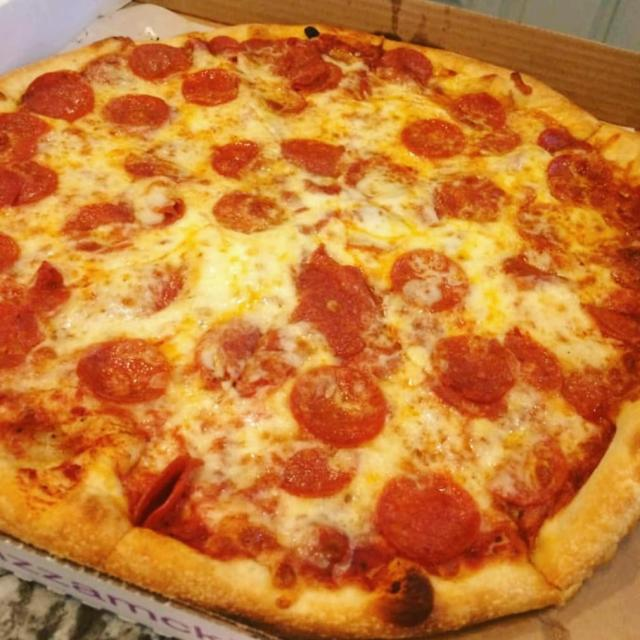pepperoni: (374, 470, 481, 566), (289, 364, 388, 448), (193, 318, 286, 394), (488, 428, 573, 509), (73, 336, 171, 404), (290, 282, 373, 359), (431, 335, 515, 403), (129, 455, 202, 530), (387, 248, 471, 311), (278, 442, 358, 498), (15, 68, 96, 123), (426, 374, 510, 422), (57, 203, 139, 250), (546, 154, 614, 208), (433, 173, 507, 220), (99, 91, 171, 138), (579, 299, 640, 353), (212, 194, 286, 234), (0, 298, 40, 371), (126, 40, 190, 84), (278, 136, 345, 178), (400, 118, 466, 160), (0, 157, 60, 203), (179, 65, 242, 108), (121, 152, 197, 184), (376, 46, 434, 87), (273, 44, 329, 86), (558, 372, 606, 421), (208, 140, 264, 181), (448, 90, 504, 128), (289, 57, 345, 93), (29, 262, 69, 312), (0, 120, 38, 168), (466, 126, 520, 158), (140, 191, 186, 227), (0, 110, 53, 138), (538, 127, 592, 154), (0, 171, 21, 211), (0, 228, 18, 272), (208, 36, 242, 59)
pizza: (0, 20, 640, 640)
